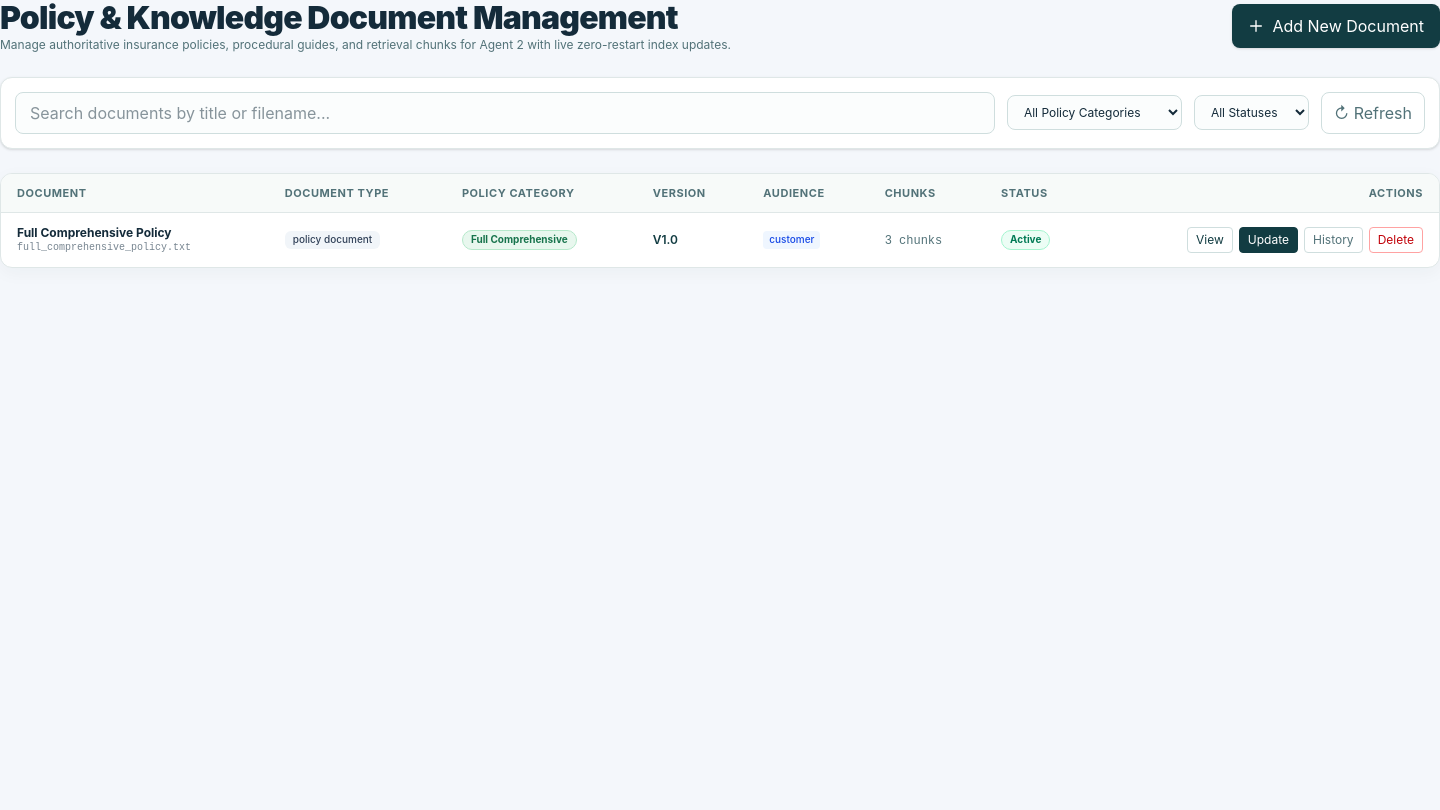
Test: PolicyKnowledgeManagement delete policy › keeps the policy visible when deletion fails
The image size is (1440, 810).
Check: the text "Full Comprehensive Policy" is shown, box [17, 226, 172, 240]
Click the button "Delete": (1396, 240) [1369, 227, 1423, 253]
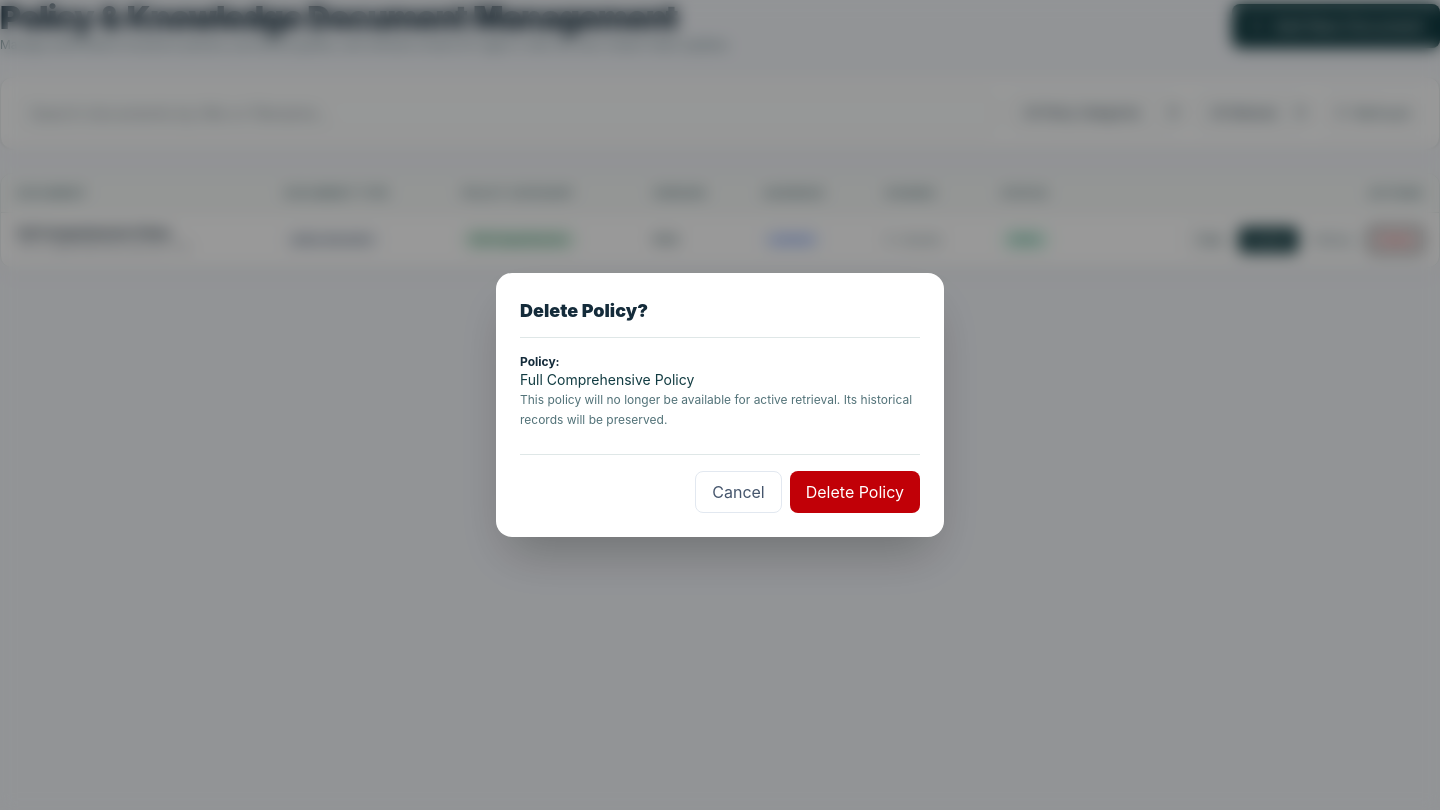
Click the button "Delete Policy": (855, 492) [790, 471, 920, 513]
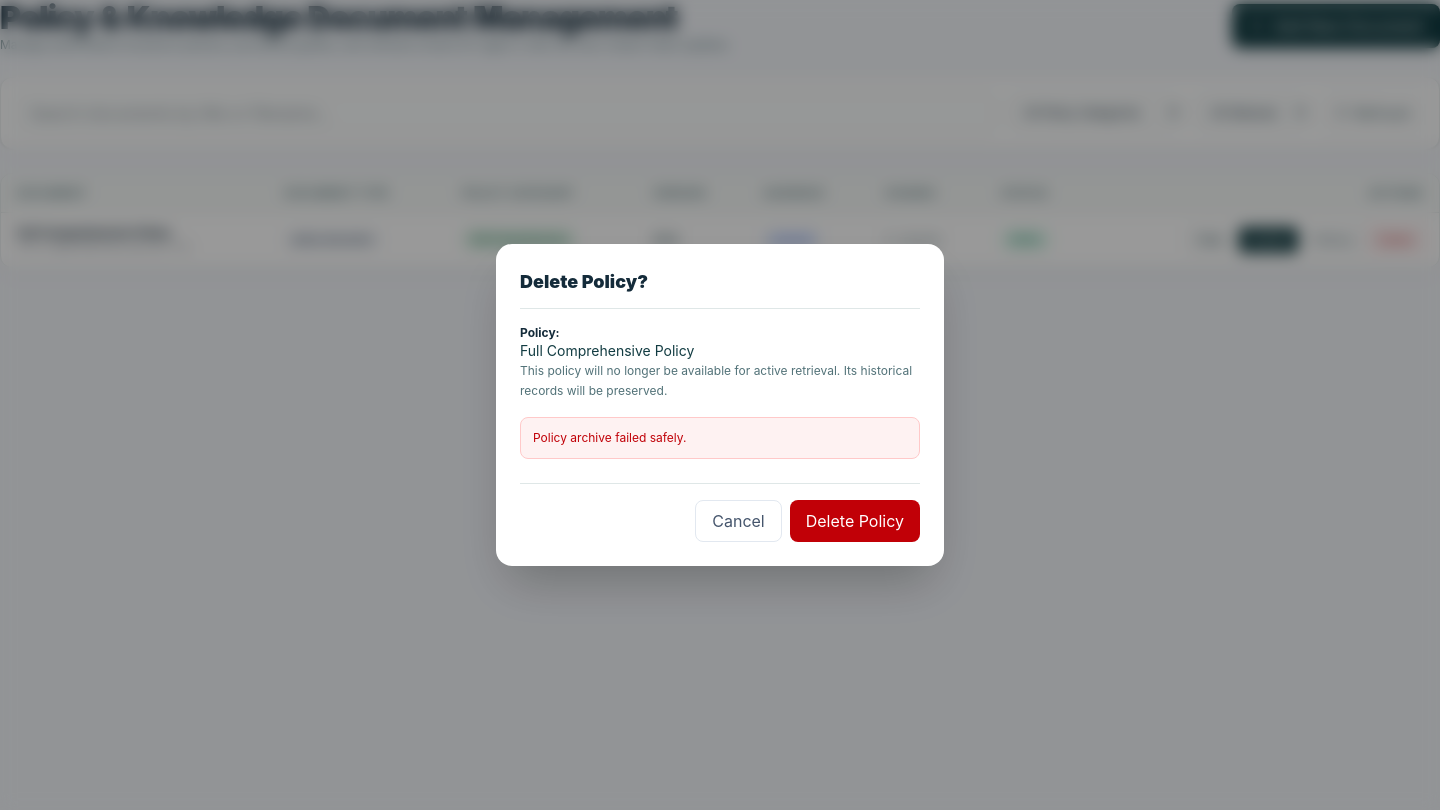
Check: the message reads "Policy archive failed safely.", box [533, 430, 686, 445]
